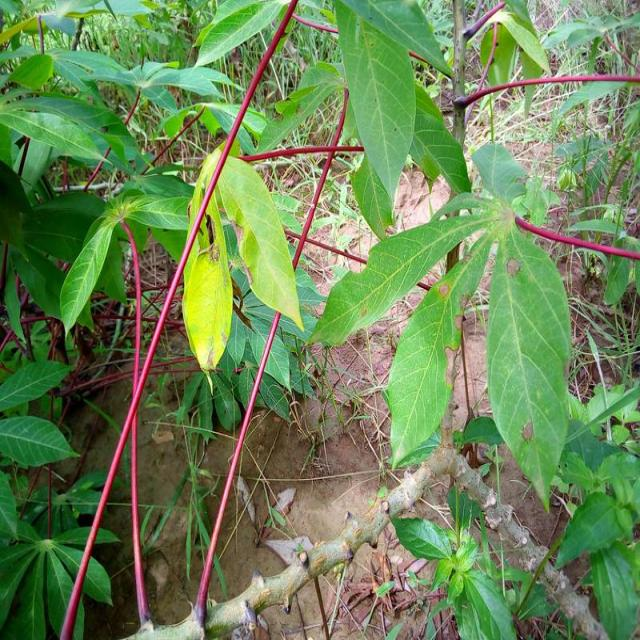cassava leaf: (485, 220, 572, 512), (333, 0, 416, 228), (209, 150, 305, 332)
